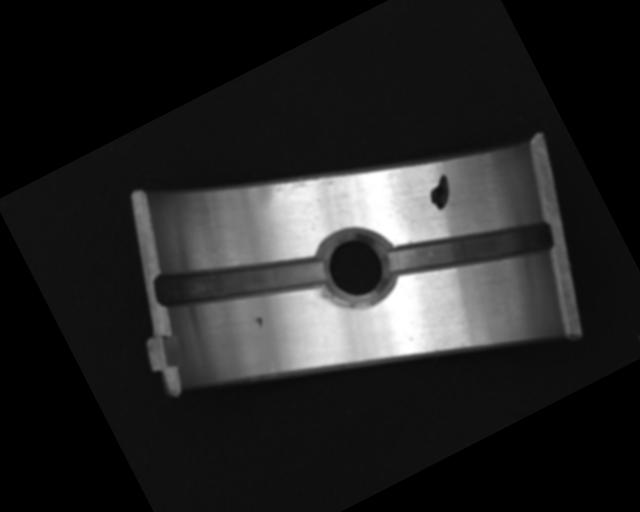blot: (422, 173, 460, 213)
bruise: (253, 314, 266, 329)
gap: (152, 209, 330, 353), (385, 182, 561, 318)
hole: (309, 218, 407, 319)
